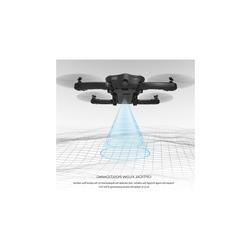drone: (55, 70, 196, 106)
